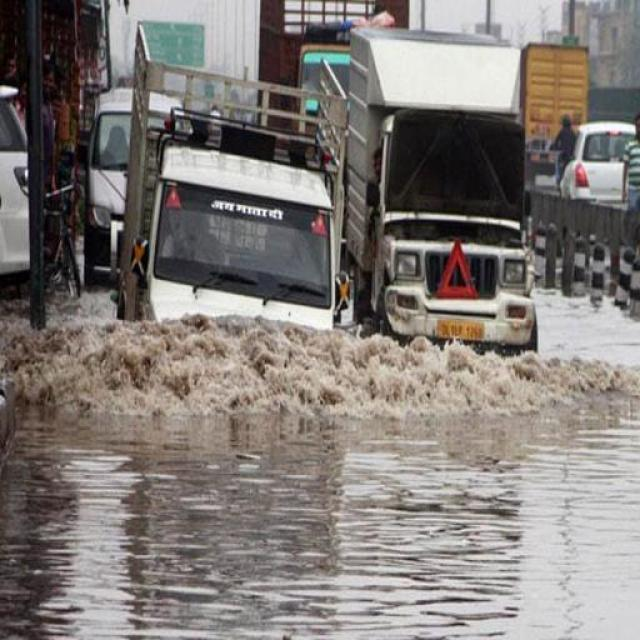puddle: (19, 416, 640, 640), (66, 350, 640, 508)
